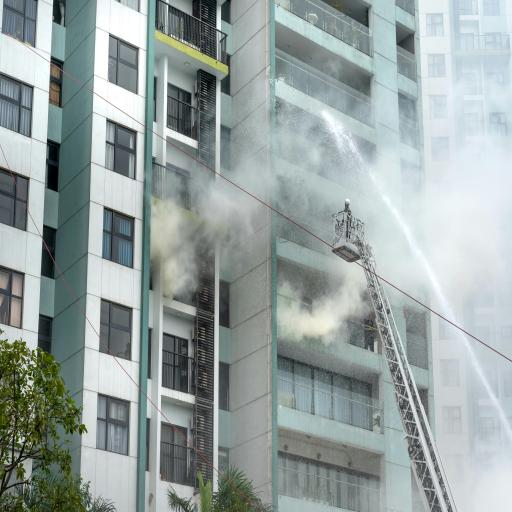smoke: (31, 0, 512, 512), (22, 280, 146, 510), (386, 286, 512, 512)
